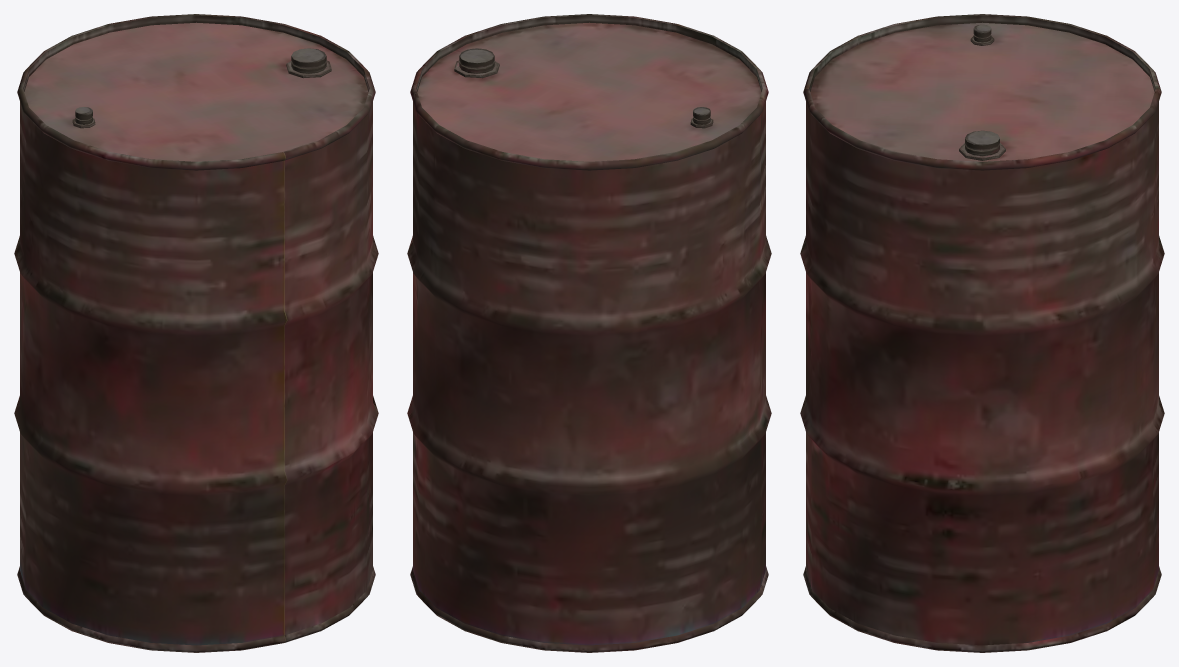
Rendered from barrel_red.glb.
3 views of the same model, side by side, from view 1: azimuth 30°, elevation 25°; view 2: azimuth 150°, elevation 25°; view 3: azimuth 270°, elevation 25° (orthographic).
Visible parts, largest first — view 1: Barrel_03; view 2: Barrel_03; view 3: Barrel_03.
Part boxes in pixels (<box>): Barrel_03: <box>14,14,378,652</box>; Barrel_03: <box>407,14,771,652</box>; Barrel_03: <box>800,14,1164,652</box>.
Size of the model in its own units: 0.7223 by 1.08 by 0.7223.
Materials: 1 (1 with a texture image).
